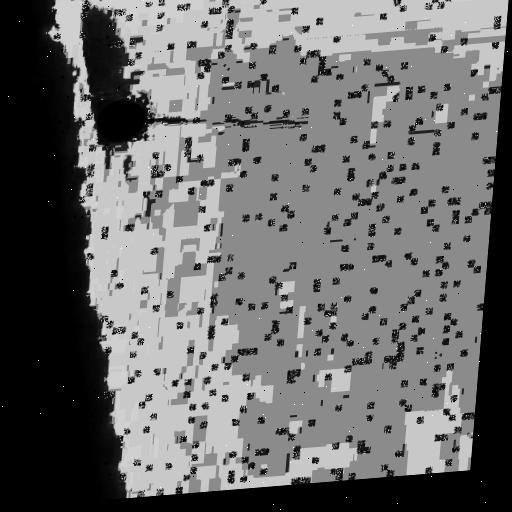balloon: (92, 96, 146, 145)
